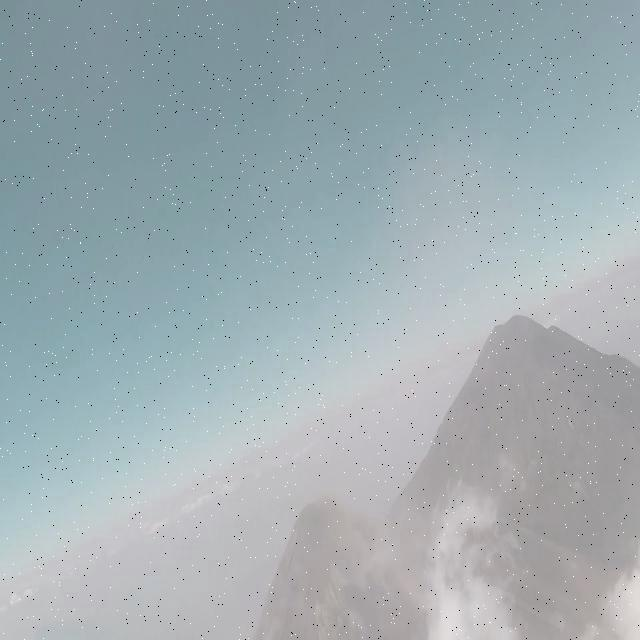Summit: (240, 465, 398, 640)
